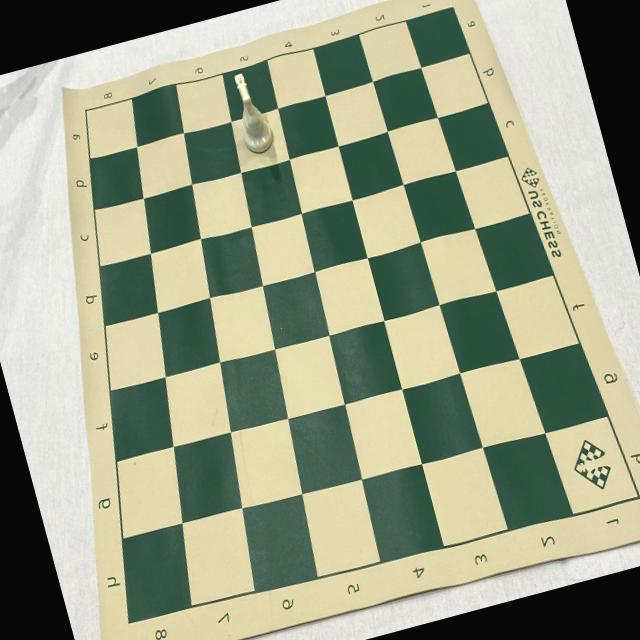white-knight: (225, 67, 278, 158)
